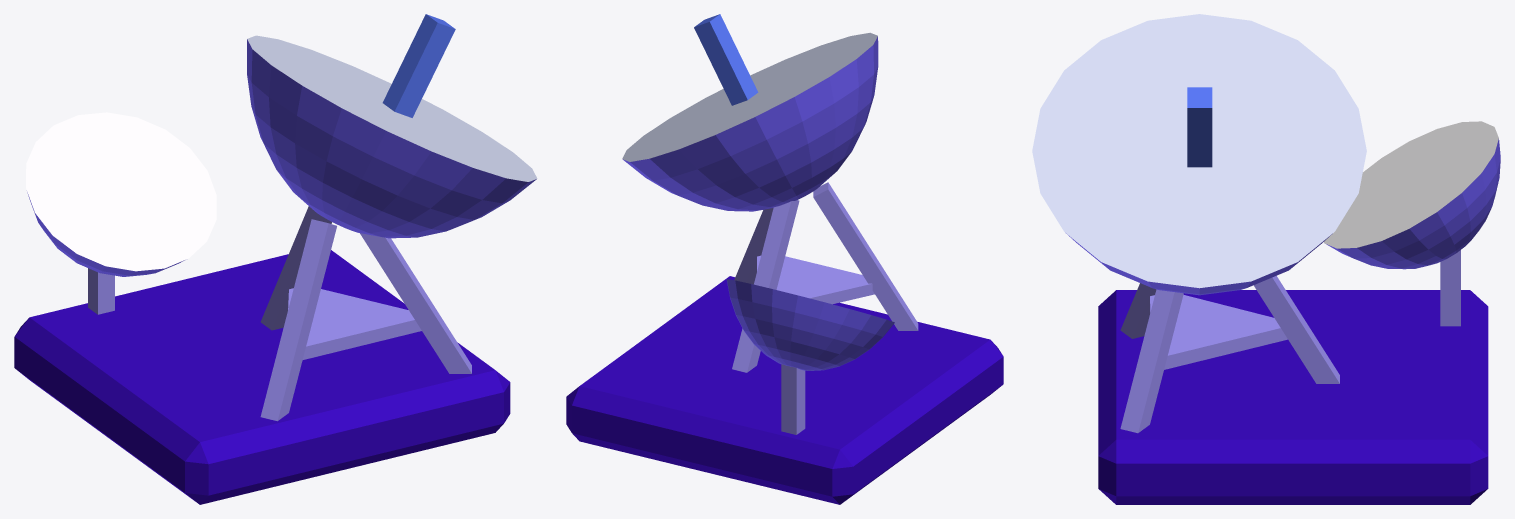
File: Building_049_d.fbx
The picture shows the model from 3 angles, left to right: view 1: azimuth 30°, elevation 25°; view 2: azimuth 150°, elevation 25°; view 3: azimuth 270°, elevation 25°; orthographic projection. The views are drawn at different scales.
Parts seen in each view (by area): view 1: Building_049_d3, Building_049_d6, Building_049_d2, Building_049_d5, Building_049_d4, Building_049_d1; view 2: Building_049_d3, Building_049_d6, Building_049_d5, Building_049_d2, Building_049_d4, Building_049_d1; view 3: Building_049_d6, Building_049_d3, Building_049_d2, Building_049_d5, Building_049_d4, Building_049_d1.
Boxes of the visible parts, box(x1,y1,x2,y2) form: Building_049_d3: box(14, 250, 510, 504); Building_049_d6: box(247, 35, 537, 238); Building_049_d2: box(26, 112, 216, 276); Building_049_d5: box(260, 206, 471, 421); Building_049_d4: box(382, 14, 455, 117); Building_049_d1: box(88, 268, 114, 314); Building_049_d3: box(566, 276, 1003, 504); Building_049_d6: box(622, 32, 878, 211); Building_049_d5: box(732, 182, 918, 372); Building_049_d2: box(726, 279, 894, 370); Building_049_d4: box(694, 14, 758, 105); Building_049_d1: box(781, 364, 805, 434); Building_049_d6: box(1032, 14, 1366, 295); Building_049_d3: box(1098, 290, 1488, 504); Building_049_d2: box(1324, 121, 1500, 269); Building_049_d5: box(1120, 276, 1339, 433); Building_049_d4: box(1187, 87, 1212, 167); Building_049_d1: box(1440, 250, 1460, 326).
Bounding box in the file's own units: 3.89 × 3.85 × 4.03.
